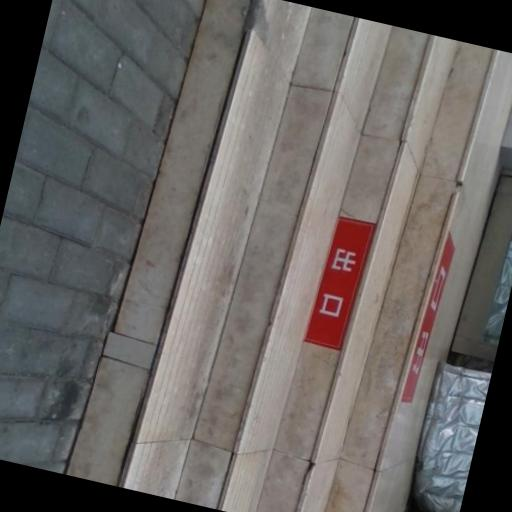stairs: (67, 0, 511, 511)
